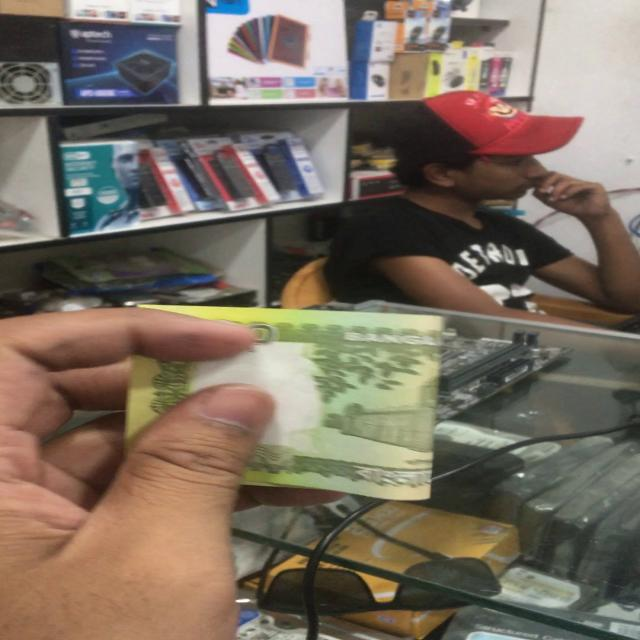Taka: (126, 302, 444, 508)
